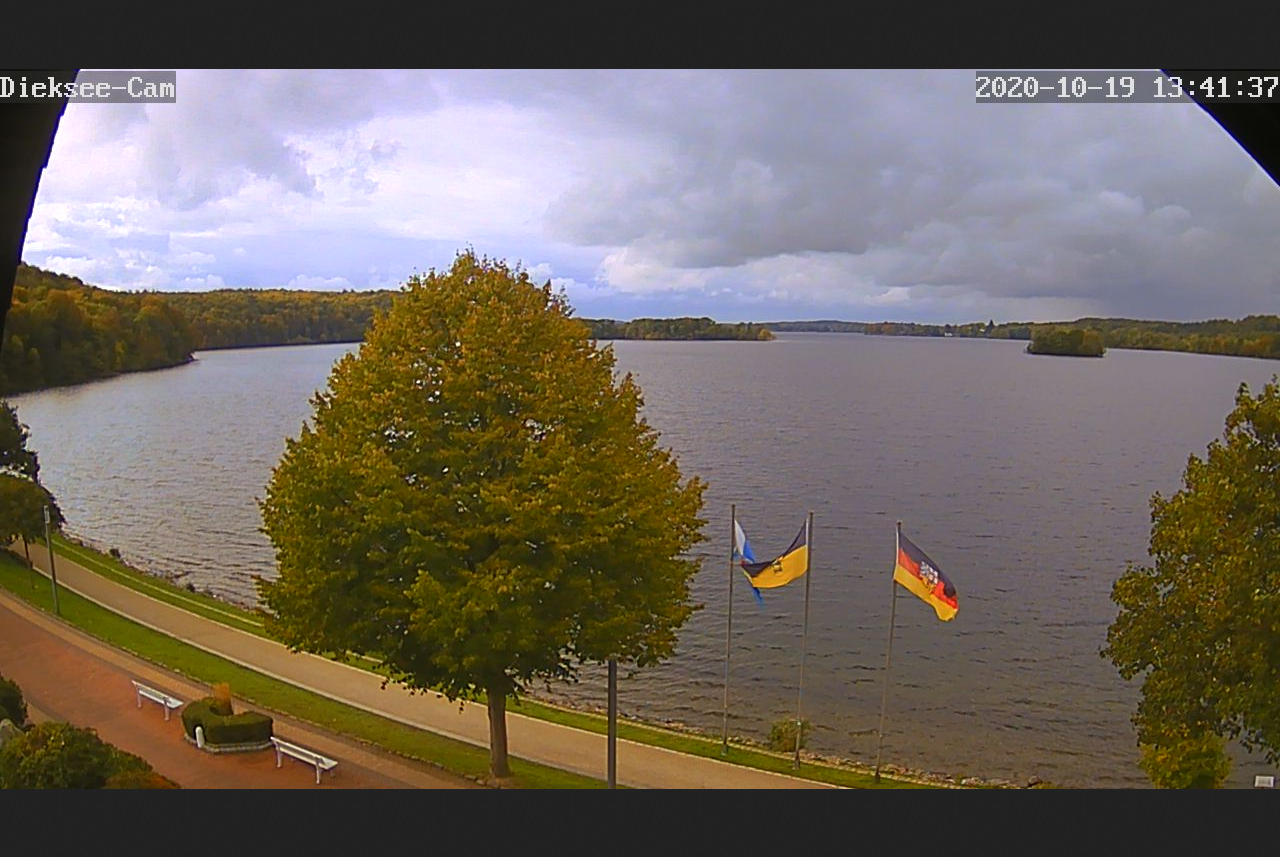maybe: (881, 519, 969, 628), (743, 503, 827, 595)
no: (724, 499, 771, 611)
